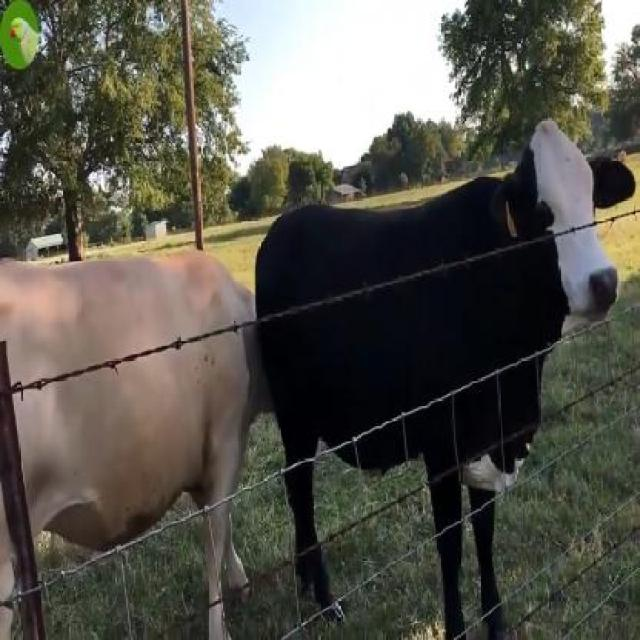Cow: (257, 121, 637, 638)
